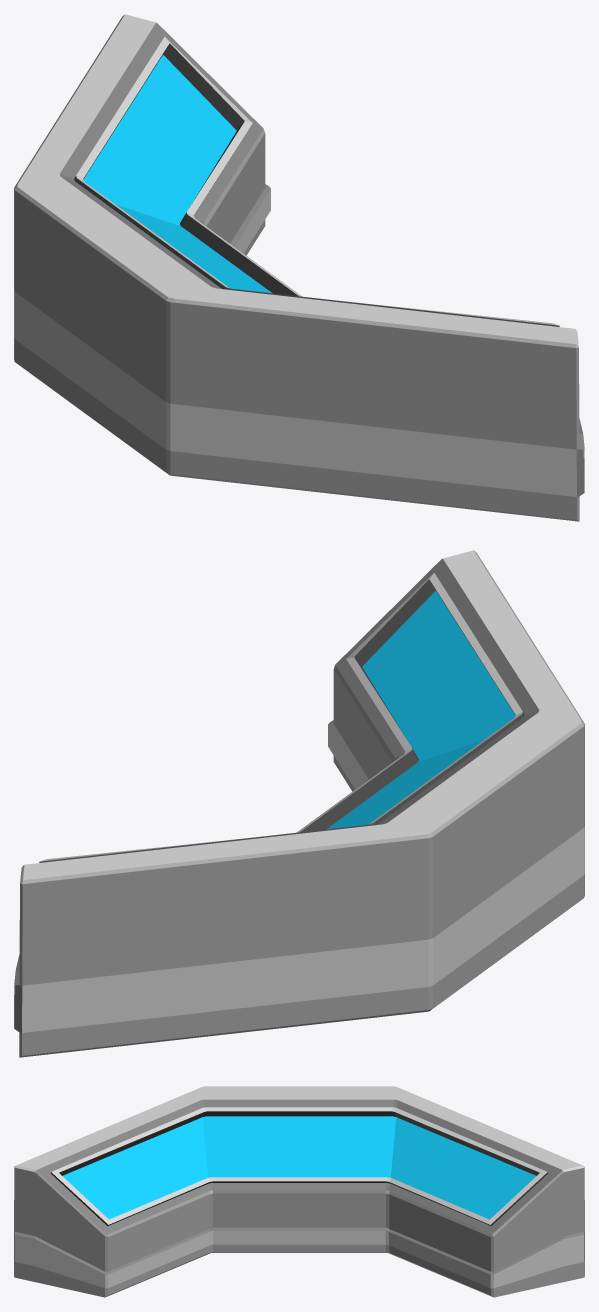
Rendered from ControlTable.FBX.
3 views of the same model, one above another, from view 1: azimuth 30°, elevation 25°; view 2: azimuth 150°, elevation 25°; view 3: azimuth 270°, elevation 25° (orthographic). The views are drawn at different scales.
Parts seen in each view (by area): view 1: ControlTable; view 2: ControlTable; view 3: ControlTable.
Boxes of the visible parts, x1,y1,x2,y2 form: ControlTable: [14, 14, 584, 521]; ControlTable: [14, 550, 584, 1057]; ControlTable: [14, 1086, 584, 1297].
Size of the model in its own units: 255 by 129 by 601.
